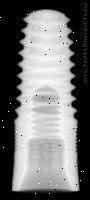NucleOSS: (9, 8, 80, 191)
